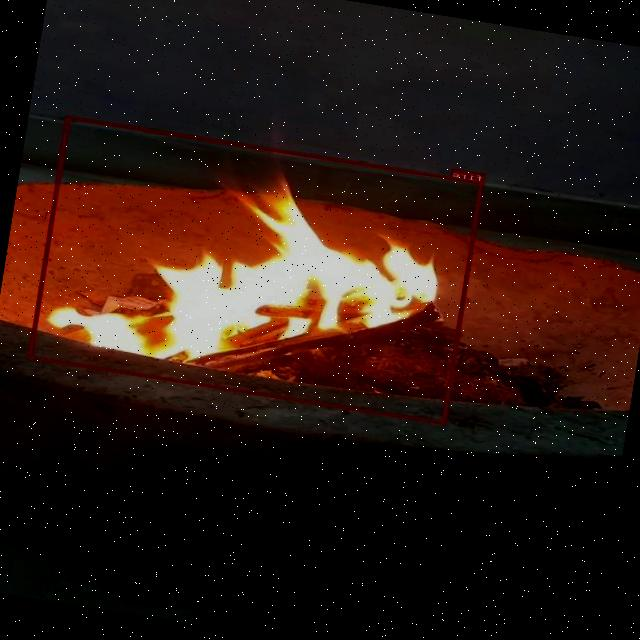fire: (29, 116, 484, 424)
